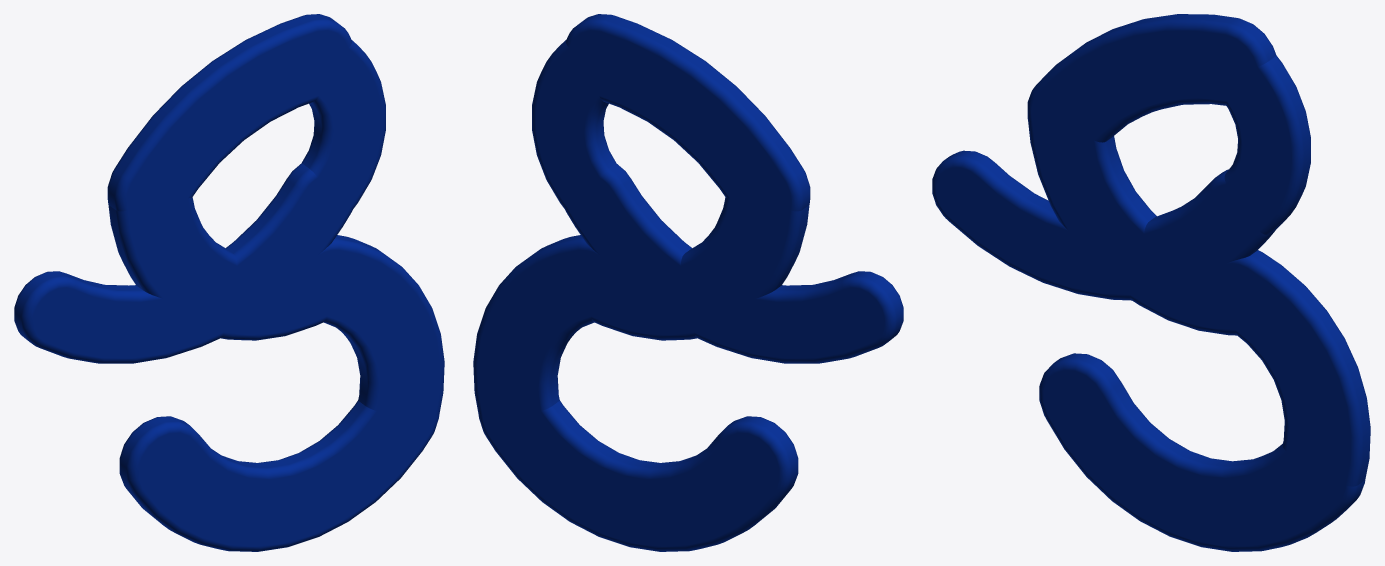
The model's file is banda.fbx.
The picture shows the model from 3 angles, left to right: view 1: azimuth 30°, elevation 25°; view 2: azimuth 150°, elevation 25°; view 3: azimuth 330°, elevation 25°; orthographic projection.
Parts seen in each view (by area): view 1: Fillet3; view 2: Fillet3; view 3: Fillet3.
Part boxes in pixels (box(x1,y1,x2,y2)): Fillet3: box(14, 14, 444, 551); Fillet3: box(473, 14, 903, 551); Fillet3: box(932, 14, 1370, 551).
Size of the model in its own units: 6.4 by 7.53 by 0.3937.
